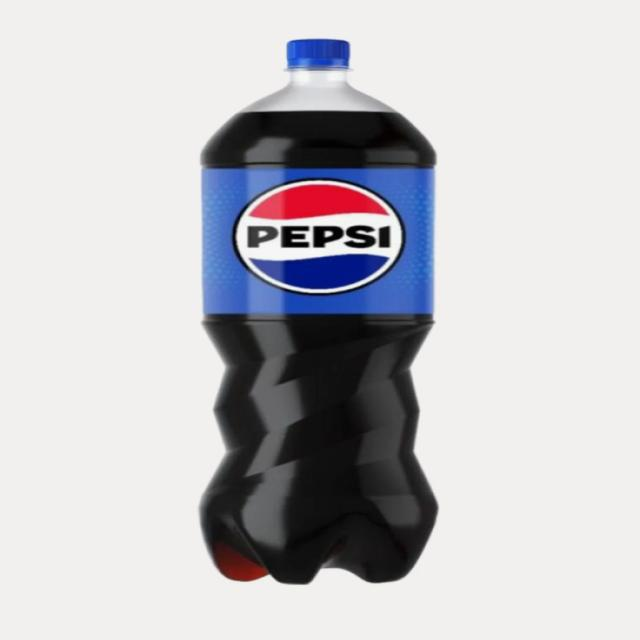supermarket-product: (198, 153, 436, 316)
